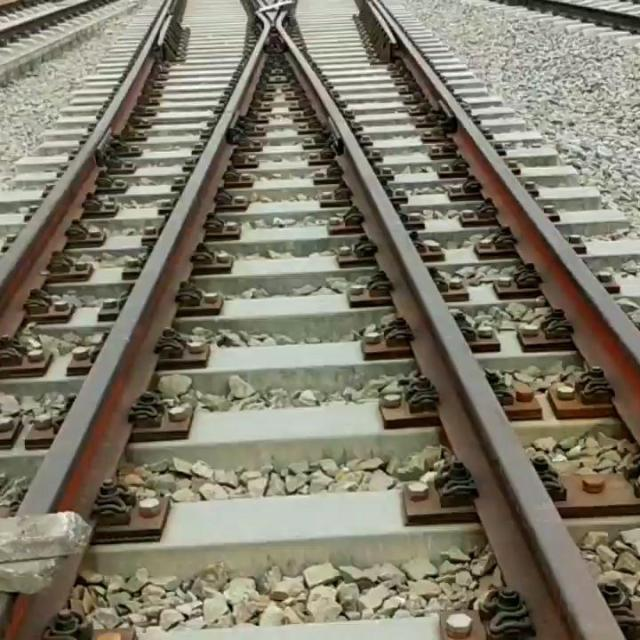rail: (279, 28, 619, 640), (20, 27, 269, 516), (380, 6, 640, 442), (0, 0, 110, 47), (504, 0, 640, 33), (252, 0, 297, 25)
